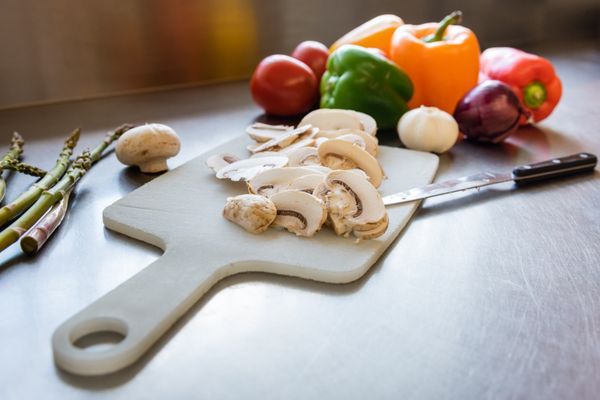sandwich: (381, 151, 599, 210)
